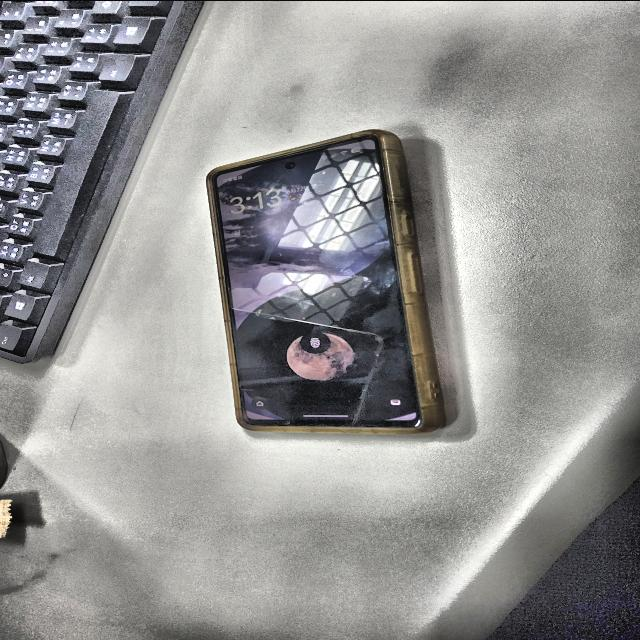Keyboard: (0, 0, 204, 363)
PHONE: (207, 129, 445, 434)
